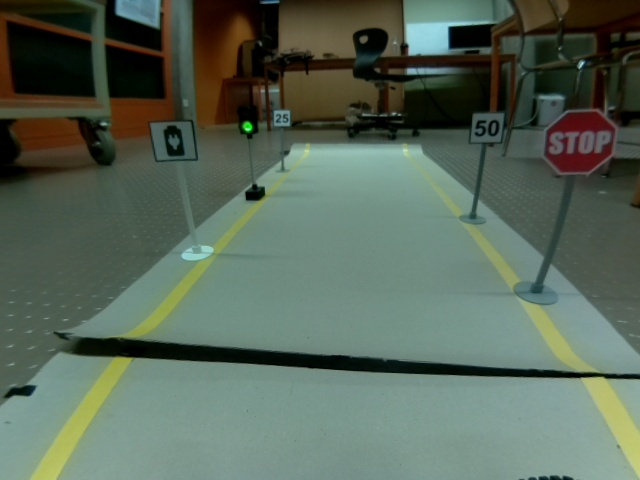battery: (147, 119, 199, 162)
speed25: (272, 109, 292, 128)
speed50: (468, 111, 508, 145)
stop: (541, 108, 619, 178)
traffic light: (236, 102, 261, 135)
